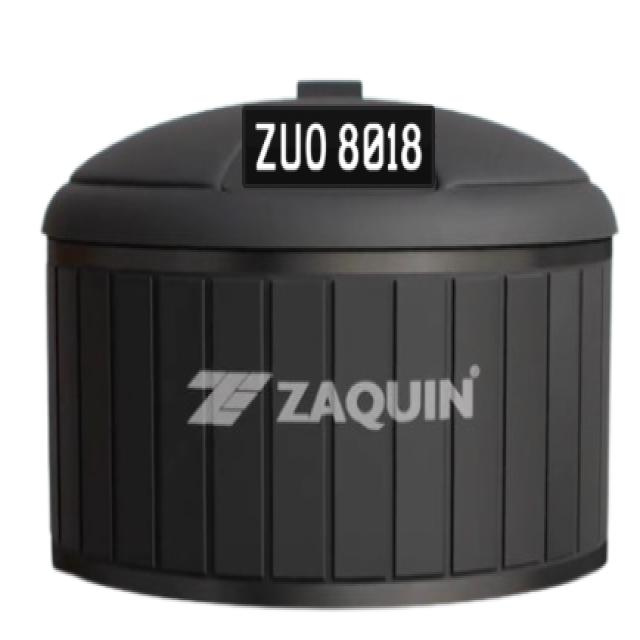bin_plate: (242, 100, 434, 189)
